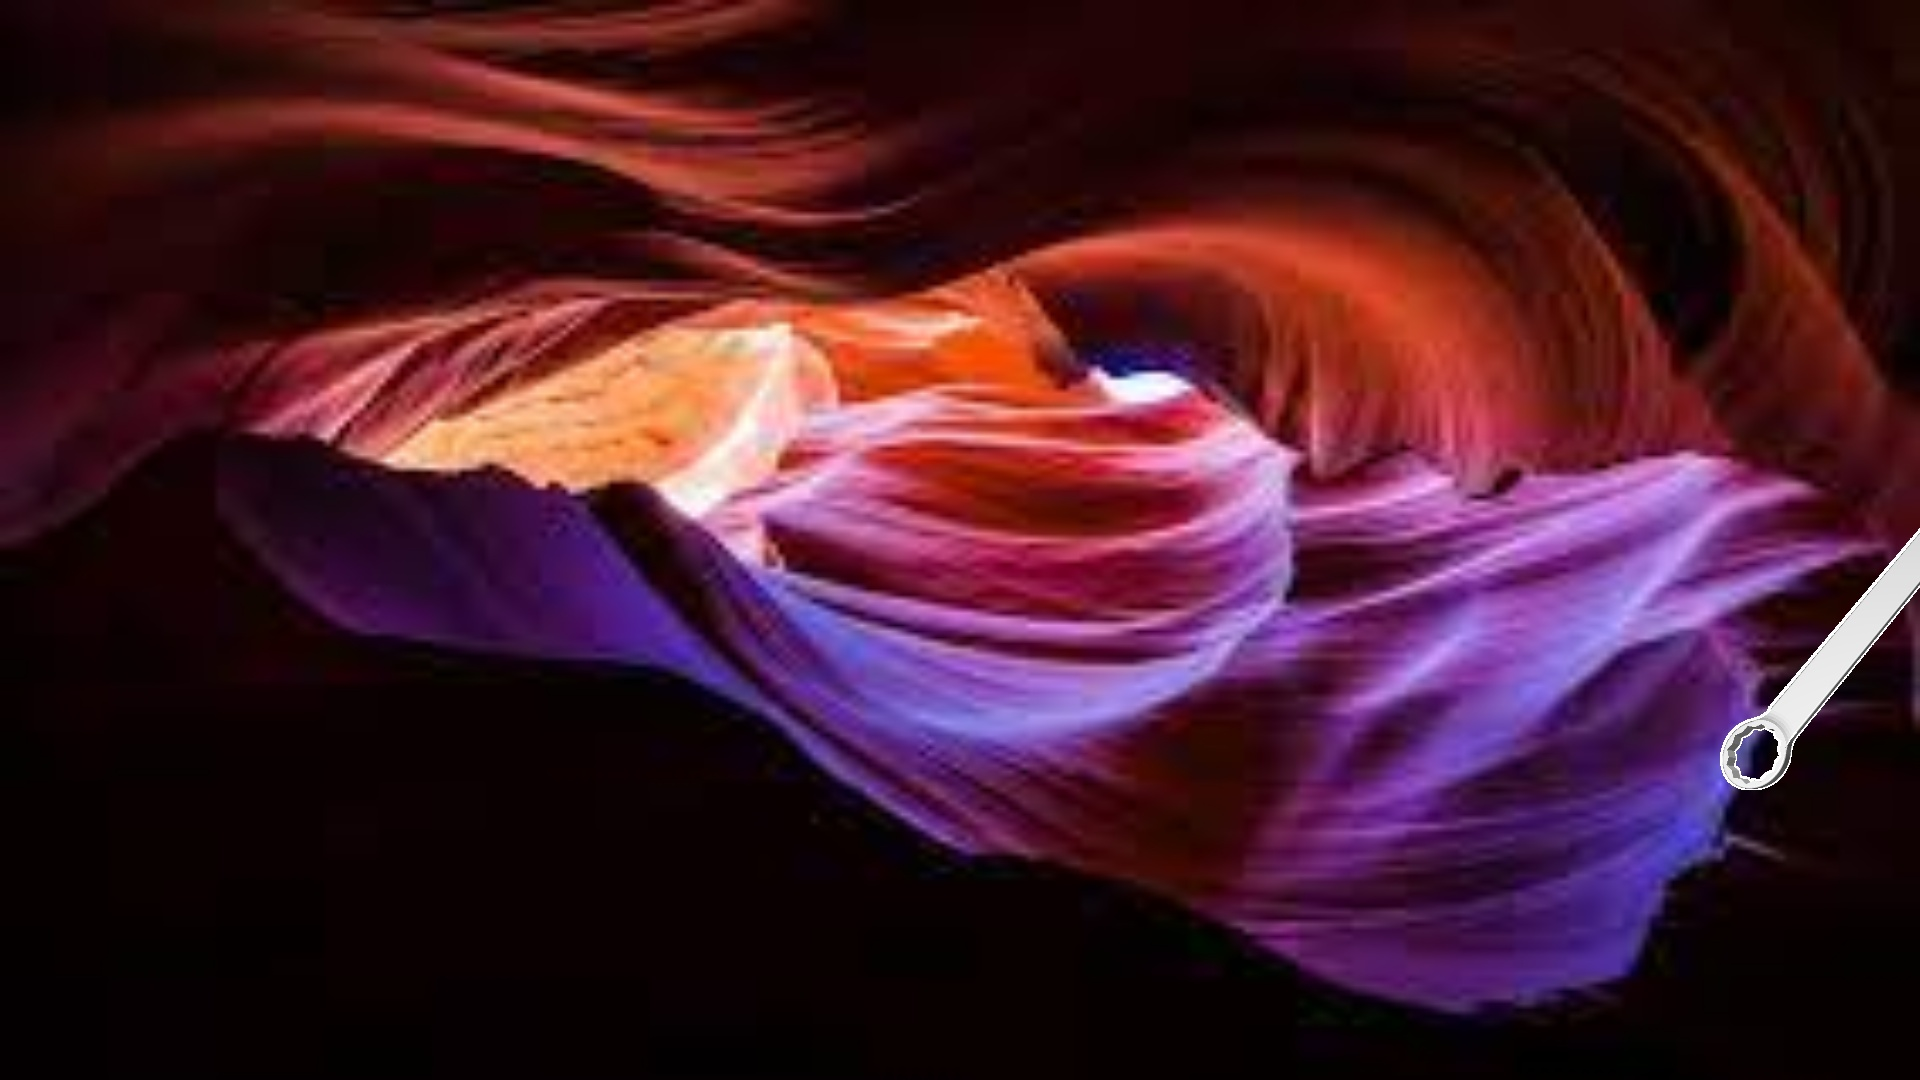Mixed Key: (1720, 527, 1919, 789)
